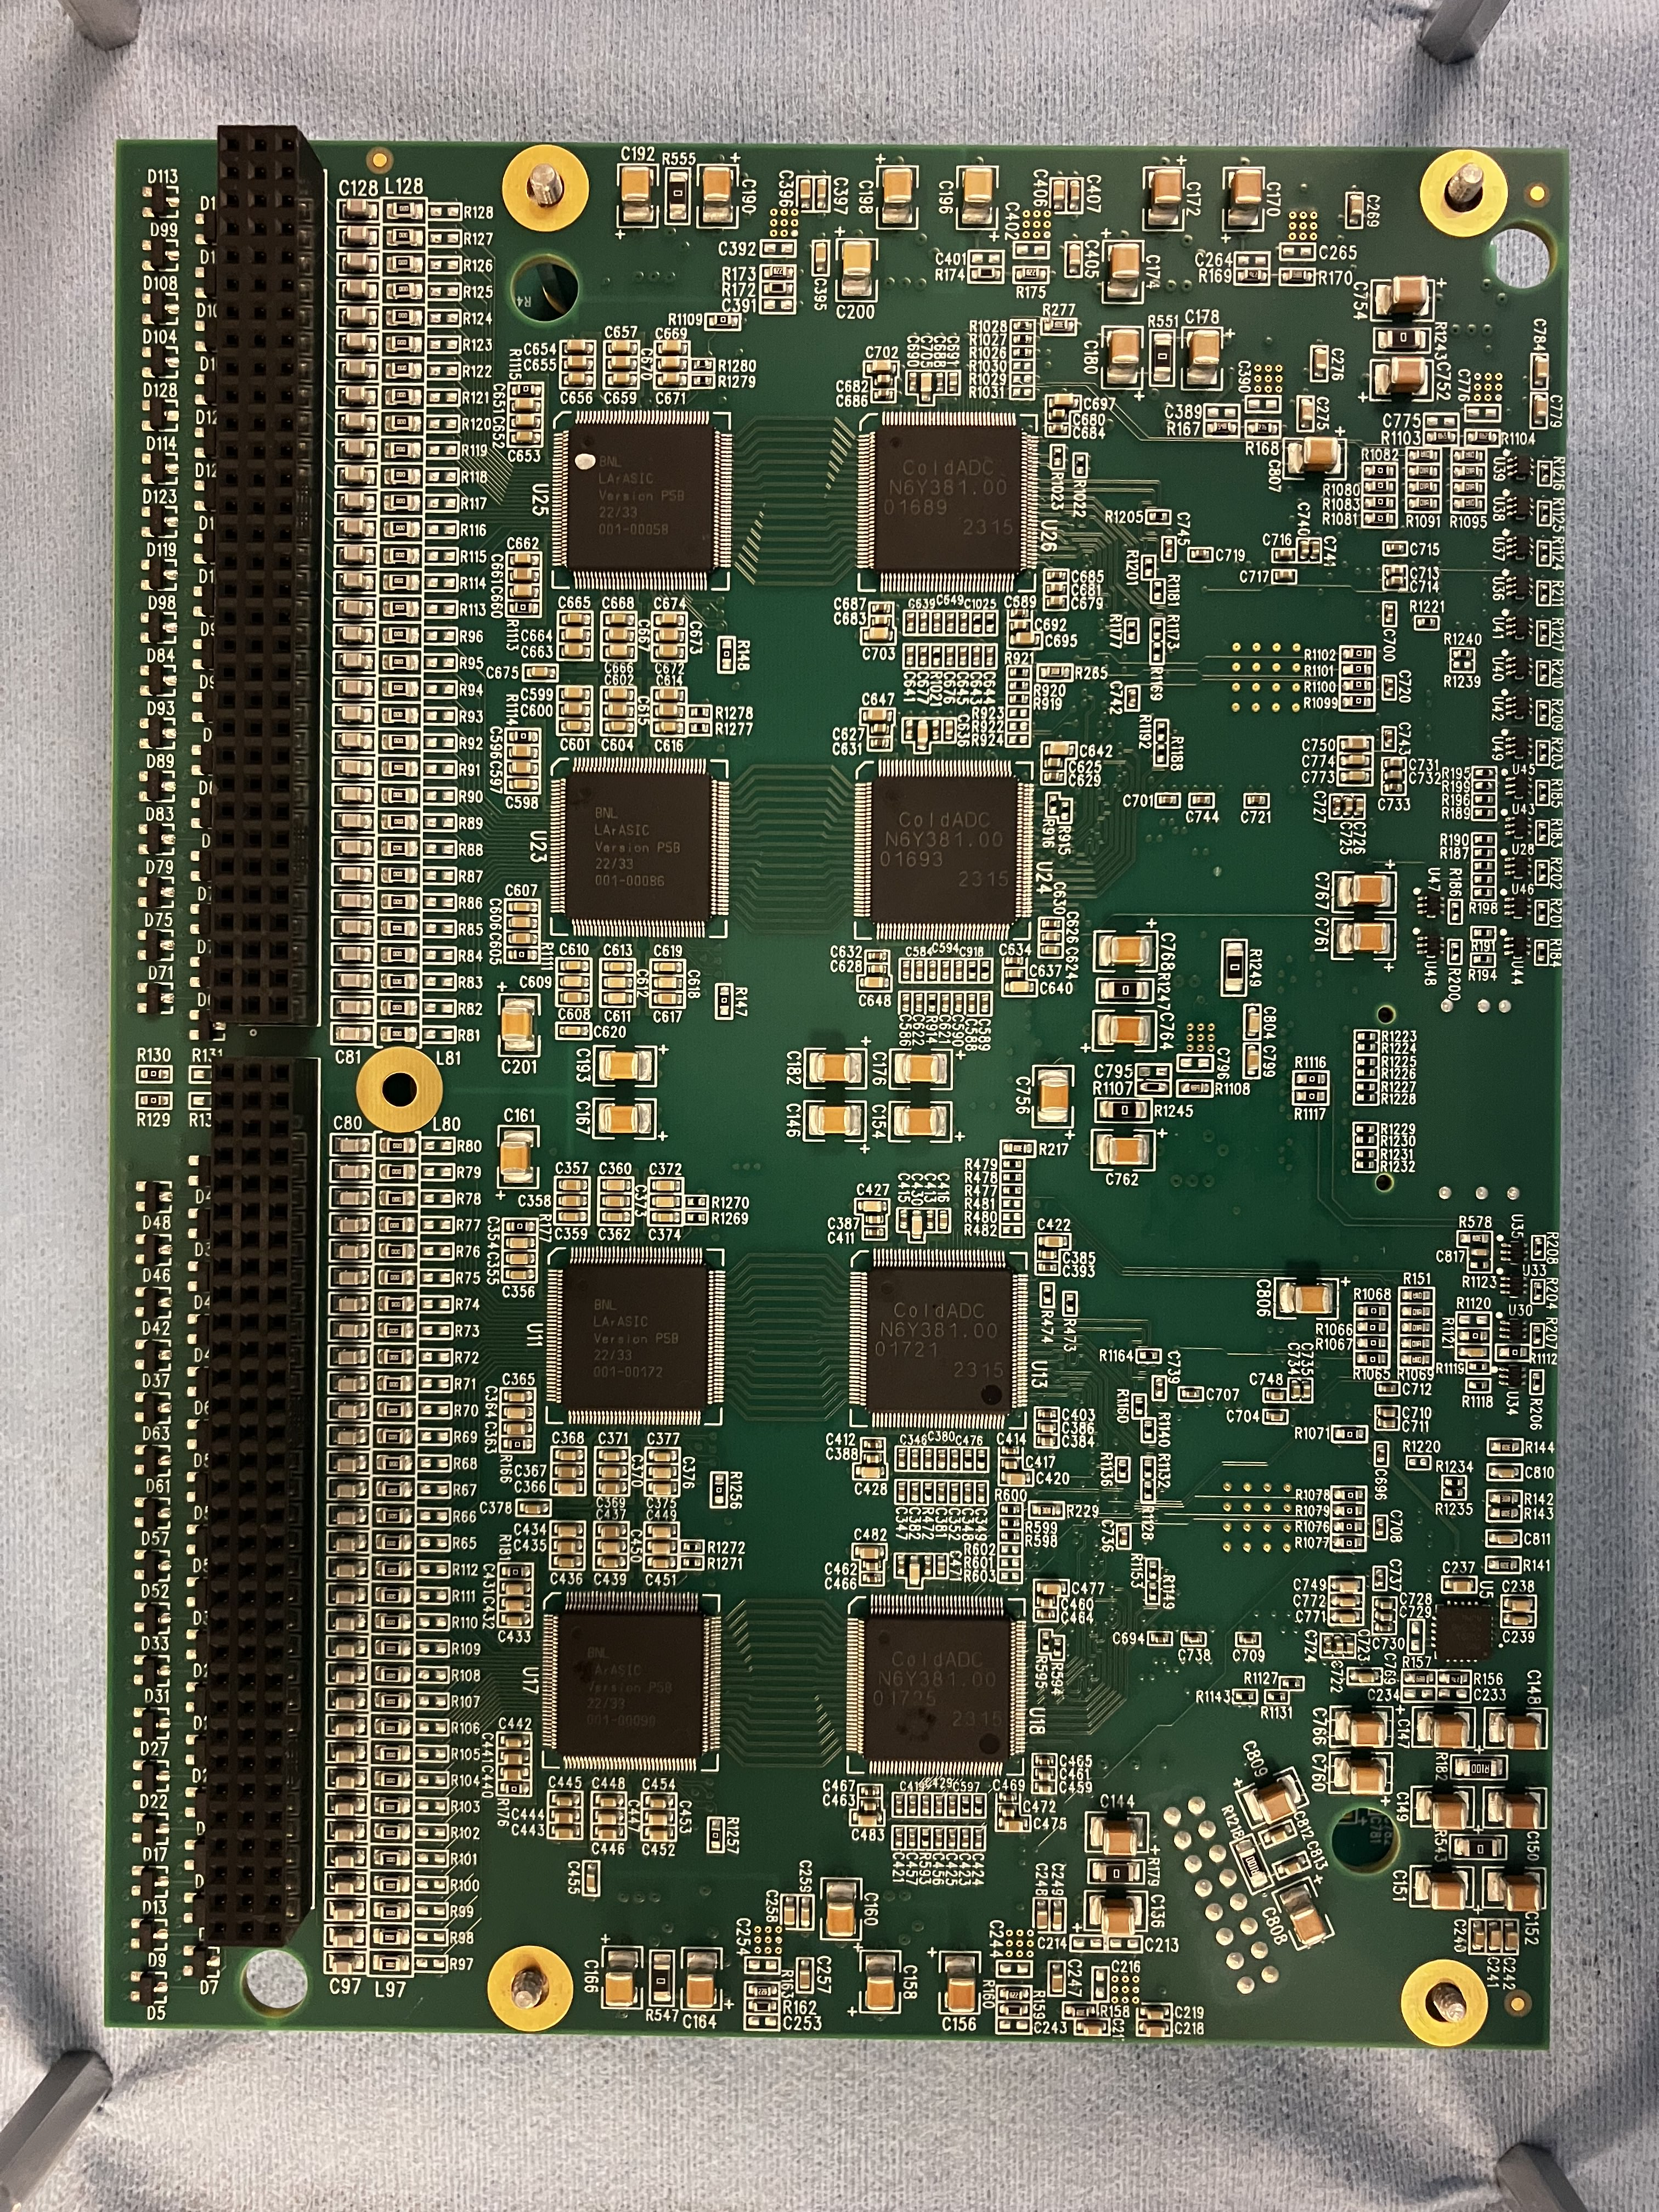chip: (568, 423, 716, 575), (563, 1261, 711, 1413), (864, 1264, 1012, 1416), (558, 1609, 706, 1761), (873, 423, 1019, 573), (565, 772, 711, 921), (870, 775, 1016, 925), (863, 1611, 1009, 1761)
